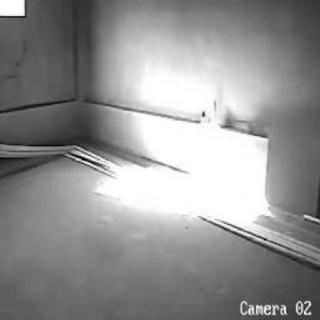other: (115, 67, 273, 221)
